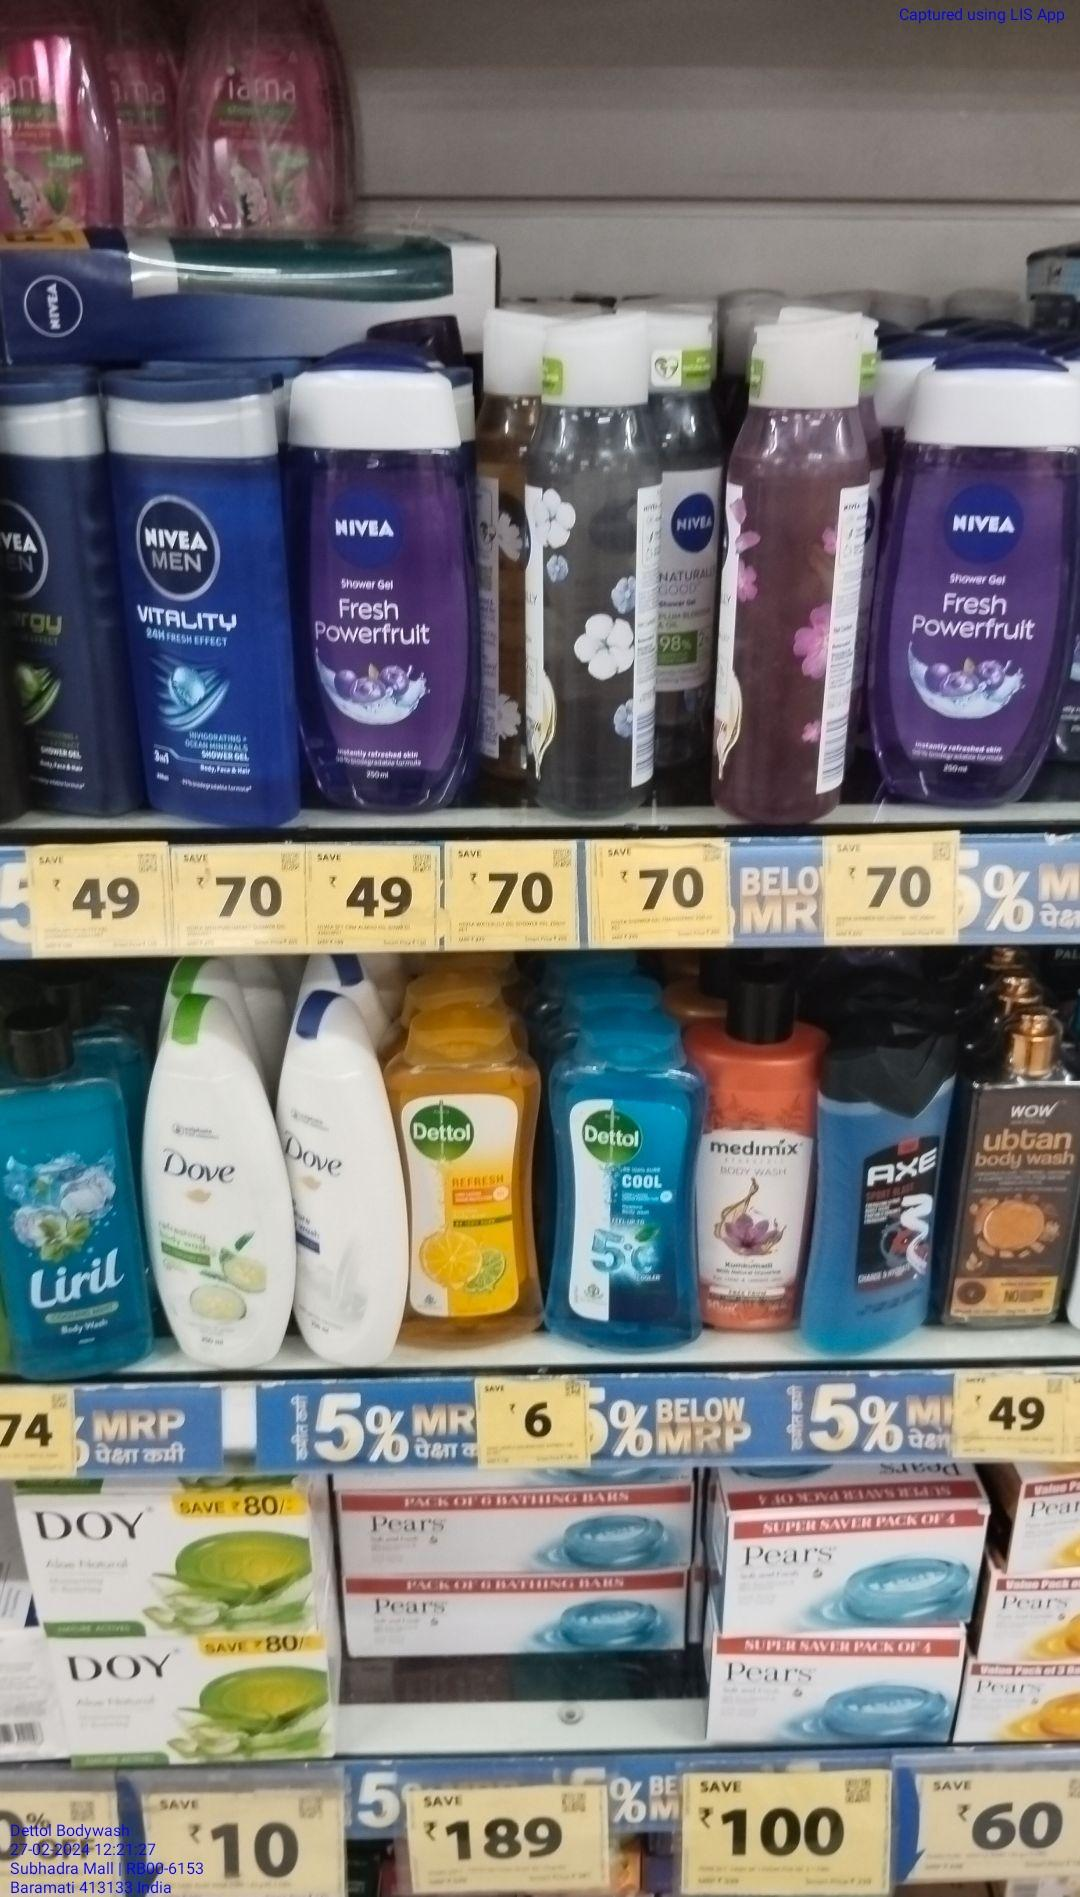Dettol_Bodywash_Cool: (555, 1024, 702, 1358)
Dettol_Bodywash_Refresh: (404, 1020, 539, 1352)
Dove_Deep_Moisture_Body_Wash_250ML: (284, 998, 387, 1368)
Dove_Refreshing_Body_Wash_250ML: (146, 1001, 271, 1369)
Liril_Cooling_Mint_Body_Wash_250ML: (3, 1012, 141, 1382)
Nivea_Shower_Gel_Fresh_Powerfruit_250ML: (288, 344, 477, 818), (883, 339, 1067, 816)
